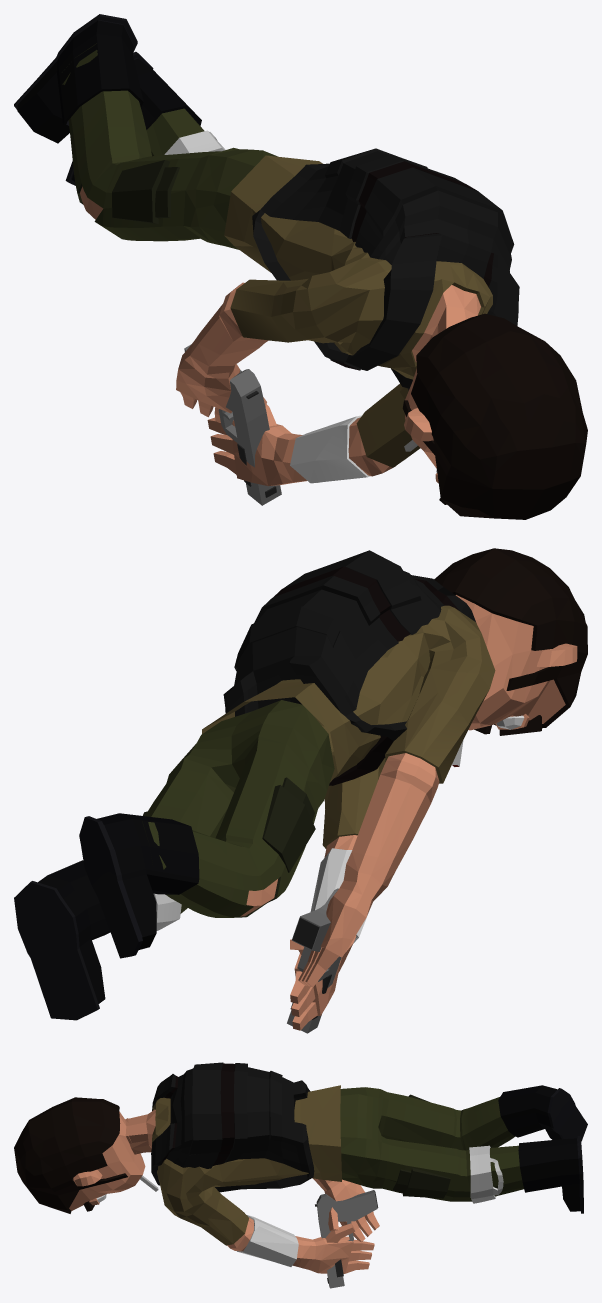
File: frame_0045.obj
The picture shows the model from 3 angles, top to bottom: view 1: azimuth 30°, elevation 25°; view 2: azimuth 150°, elevation 25°; view 3: azimuth 270°, elevation 25°; orthographic projection. The views are drawn at different scales.
Visible parts, largest first — view 1: Body, Gun; view 2: Body, Gun; view 3: Body, Gun.
Boxes of the visible parts, <box> form: Body: <box>14,14,587,519</box>; Gun: <box>184,344,281,505</box>; Body: <box>14,548,587,1030</box>; Gun: <box>287,888,341,1033</box>; Body: <box>14,1062,587,1273</box>; Gun: <box>315,1190,378,1288</box>.
Bounding box in the file's own units: 1.13 × 1.89 × 4.19.
